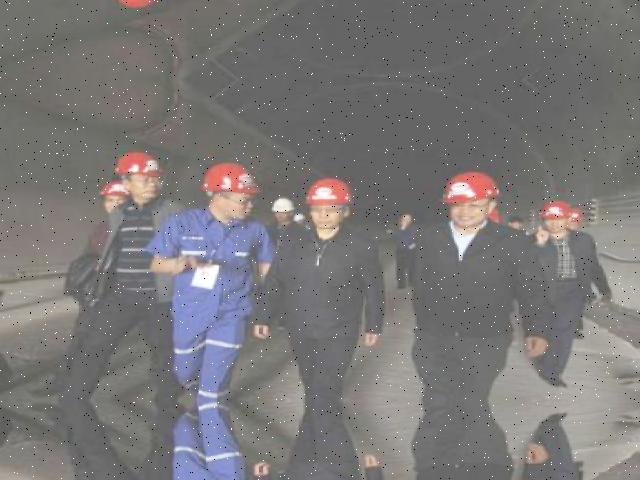Helmet: (440, 168, 503, 206), (116, 144, 171, 186), (198, 162, 262, 196), (302, 173, 360, 209), (536, 198, 582, 224)
